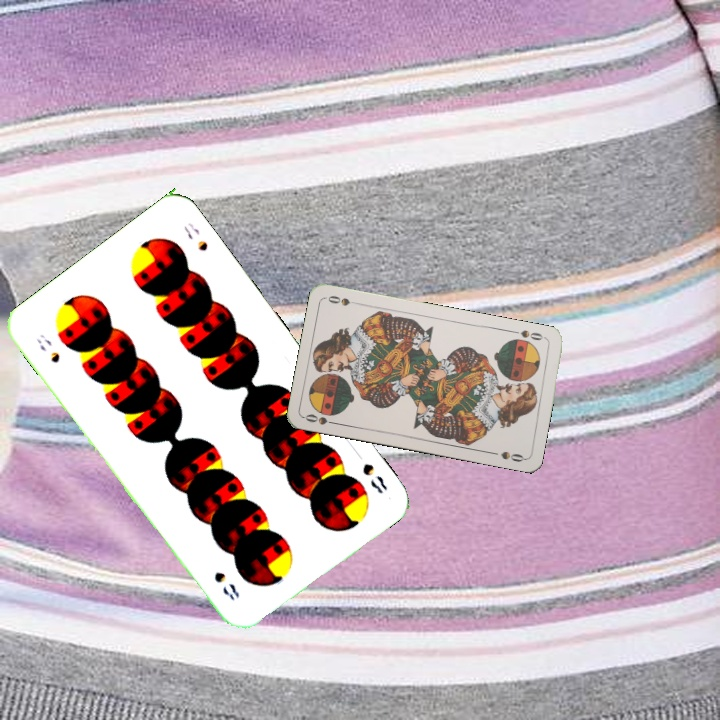S8: (358, 459, 390, 497), (33, 329, 63, 366)
SO: (301, 410, 341, 427), (517, 326, 549, 343)
